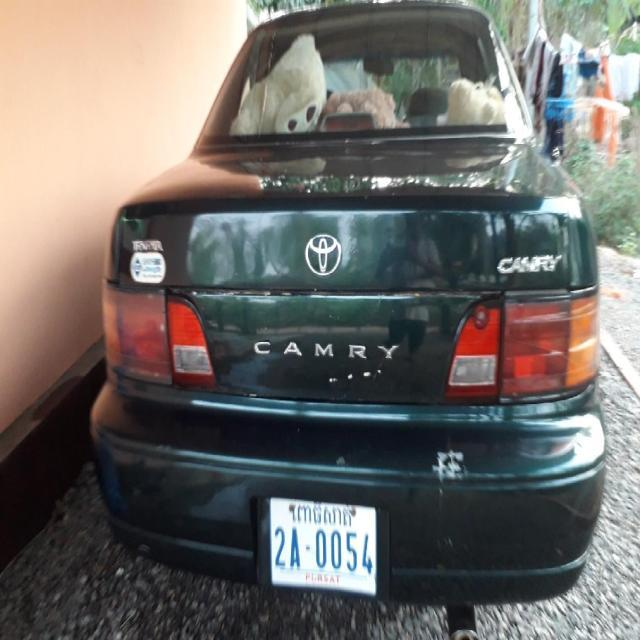Pursat: (290, 494, 353, 526)
